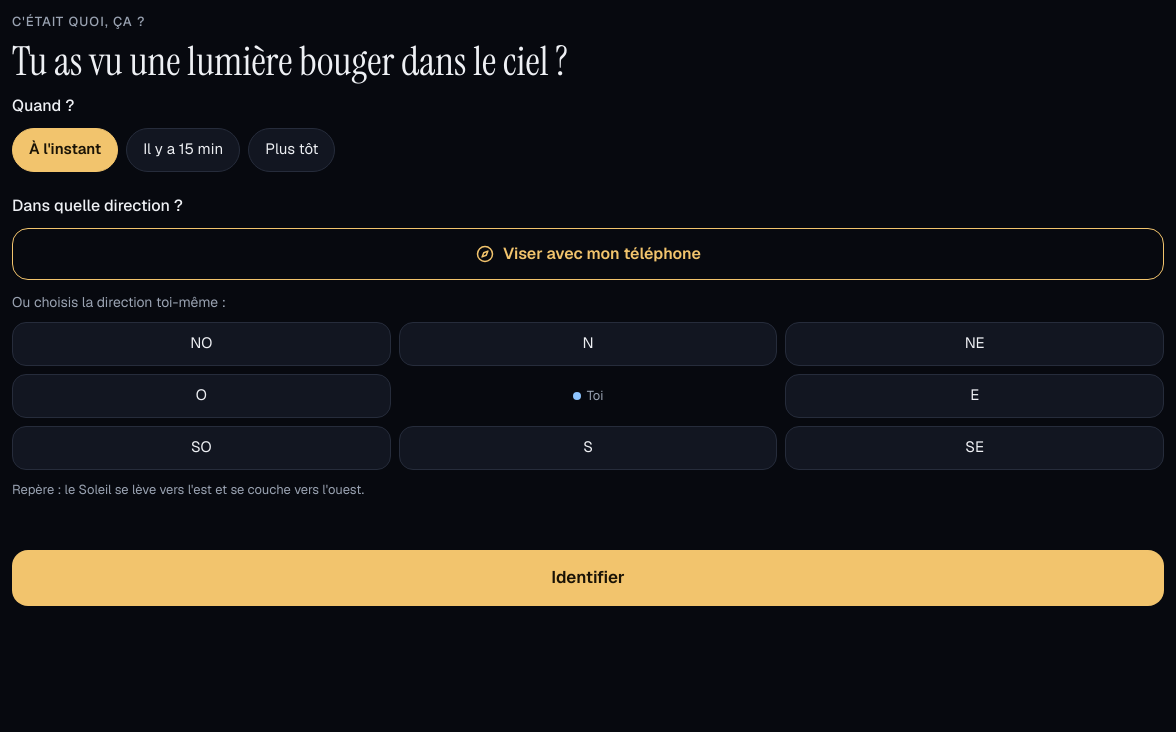
Test case: la page « C'était quoi ? » › choisit la direction que vise le téléphone, jusqu'à ce que le visiteur la choisisse lui-même
This screenshot has width=1176, height=732.
What coordinates should you click on to do the following:
click the button "Viser avec mon téléphone"
I would click on:
 (588, 254)
Its box is [12,228,1164,280].
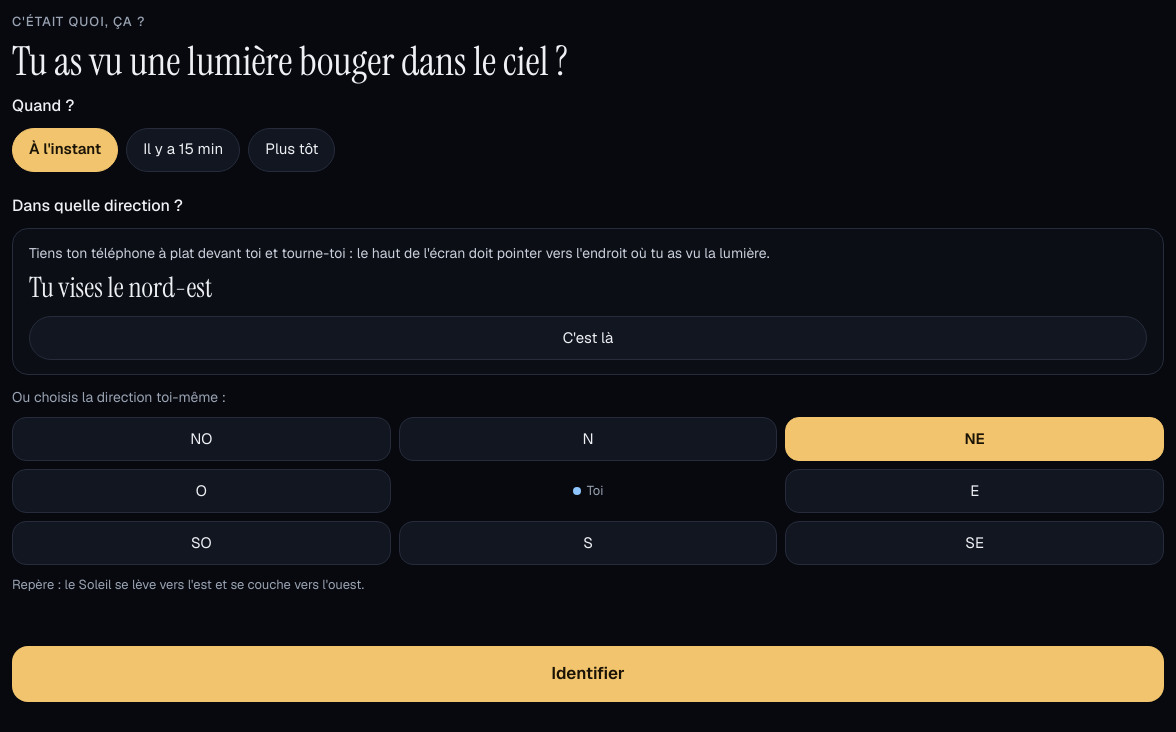
Now the message "Tu vises le nord-est" is shown, box [29,268,212,306]
What coordinates should you click on to do the following:
click the button named "Sud"
I would click on:
 (588, 543)
Its box is [399,521,777,565].
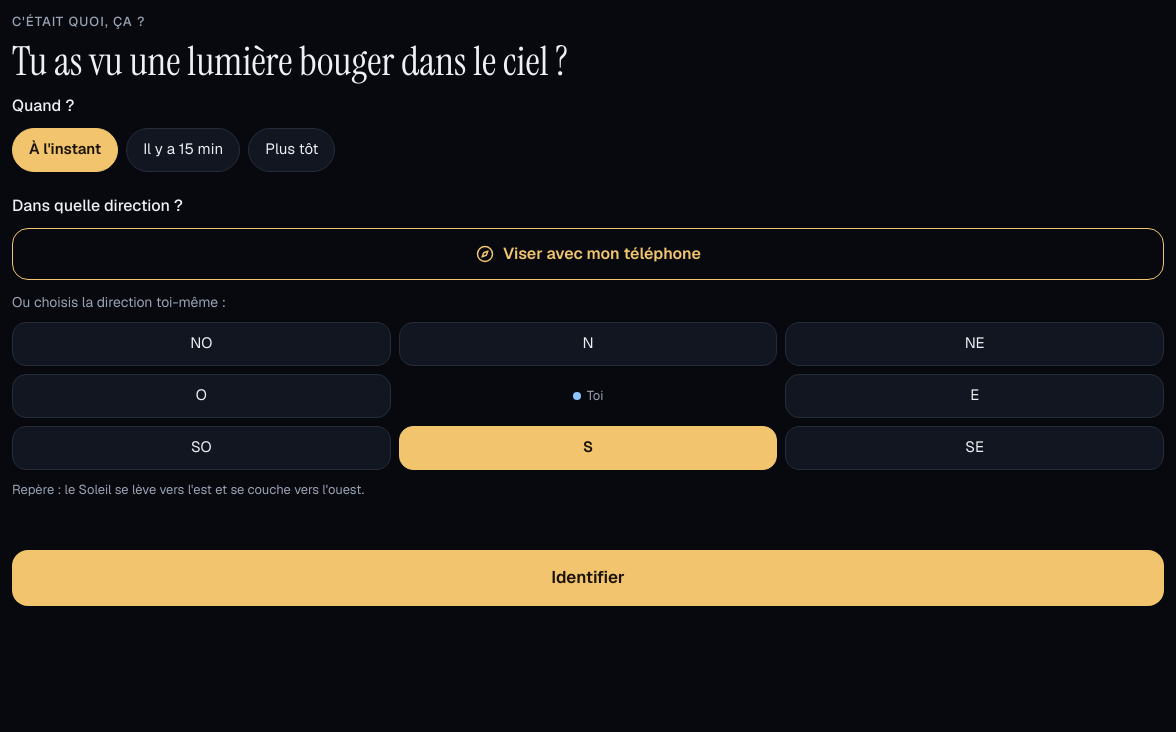
Now the button "Viser avec mon téléphone" is shown, box [12,228,1164,280]
